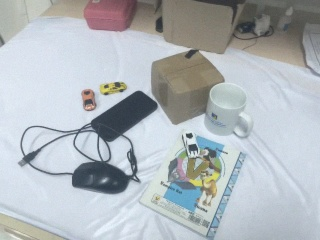book: (137, 128, 246, 240)
box: (150, 49, 227, 126), (157, 1, 250, 56)
cup: (203, 81, 255, 138)
mouse: (72, 160, 130, 195)
phone: (92, 89, 158, 143)
toy_car: (177, 132, 205, 160), (99, 81, 127, 96), (81, 88, 97, 111)
